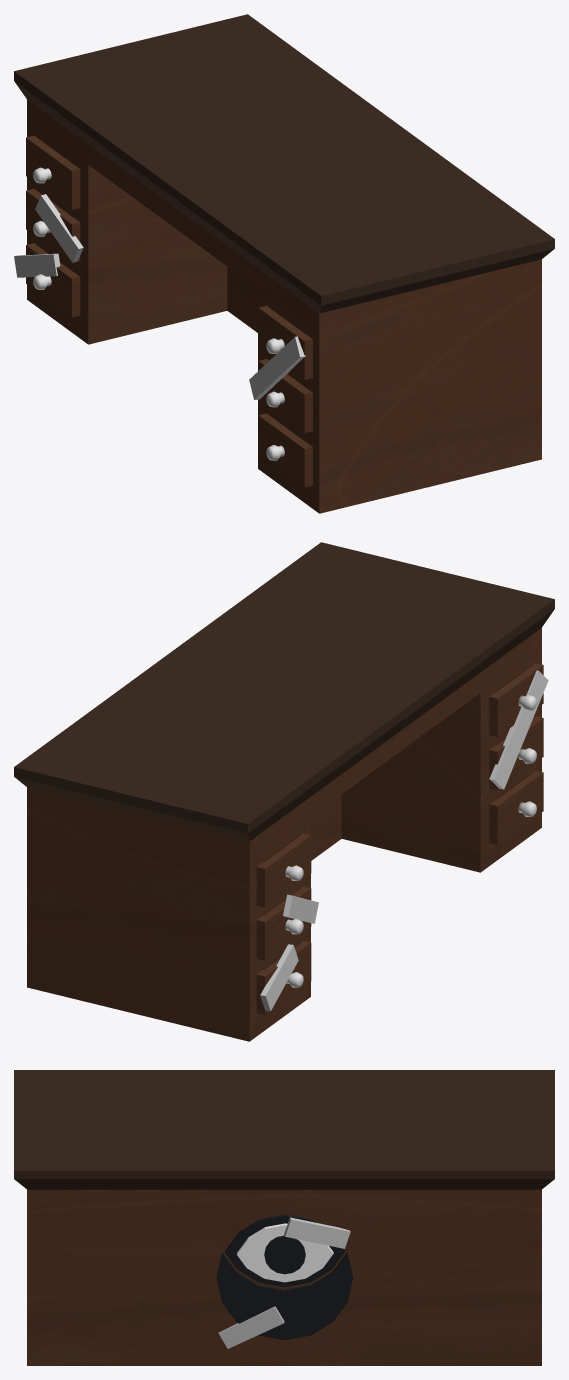
File: office_desk.fbx
The picture shows the model from 3 angles, top to bottom: view 1: azimuth 30°, elevation 25°; view 2: azimuth 150°, elevation 25°; view 3: azimuth 270°, elevation 25°; orthographic projection. The views are drawn at different scales.
Parts seen in each view (by area): view 1: Cube, Cube.014, Cylinder.003, Cylinder.005, Cylinder.004, Cube.012, Cube.005, Cube.013, Cube.003, Cube.004; view 2: Cube, Cube.014, Cylinder.003, Cylinder.005, Cube.013, Cube.005, Cube.012, Cylinder.004, Cube.004, Cube.003; view 3: Cube, Cylinder.006, Cube.002, Cube.001.
Part boxes in pixels (box(x1,y1,x2,y2)): Cube: box(14, 14, 554, 513); Cube.014: box(26, 135, 80, 209); Cylinder.003: box(258, 413, 312, 487); Cylinder.005: box(258, 305, 312, 379); Cylinder.004: box(258, 359, 312, 432); Cube.012: box(26, 243, 80, 317); Cube.005: box(249, 336, 305, 399); Cube.013: box(26, 188, 80, 262); Cube.003: box(35, 194, 83, 262); Cube.004: box(14, 253, 60, 277); Cube: box(14, 542, 554, 1041); Cube.014: box(256, 833, 311, 907); Cylinder.003: box(489, 770, 543, 844); Cylinder.005: box(489, 663, 543, 736); Cube.013: box(256, 886, 311, 960); Cube.005: box(489, 670, 548, 789); Cube.012: box(256, 941, 311, 1014); Cylinder.004: box(489, 716, 543, 790); Cube.004: box(260, 944, 298, 1011); Cube.003: box(283, 894, 318, 923); Cube: box(14, 1070, 554, 1365); Cylinder.006: box(216, 1214, 352, 1340); Cube.002: box(284, 1217, 350, 1248); Cube.001: box(218, 1306, 284, 1348).
Bounding box in the file's own units: 77.79 × 63.54 × 158.
Materials: 8 (1 with a texture image).
